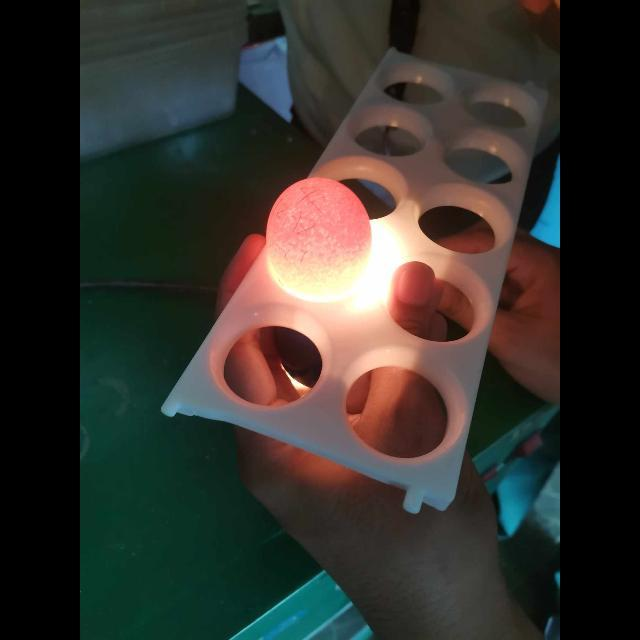Infertile: (264, 180, 376, 294)
